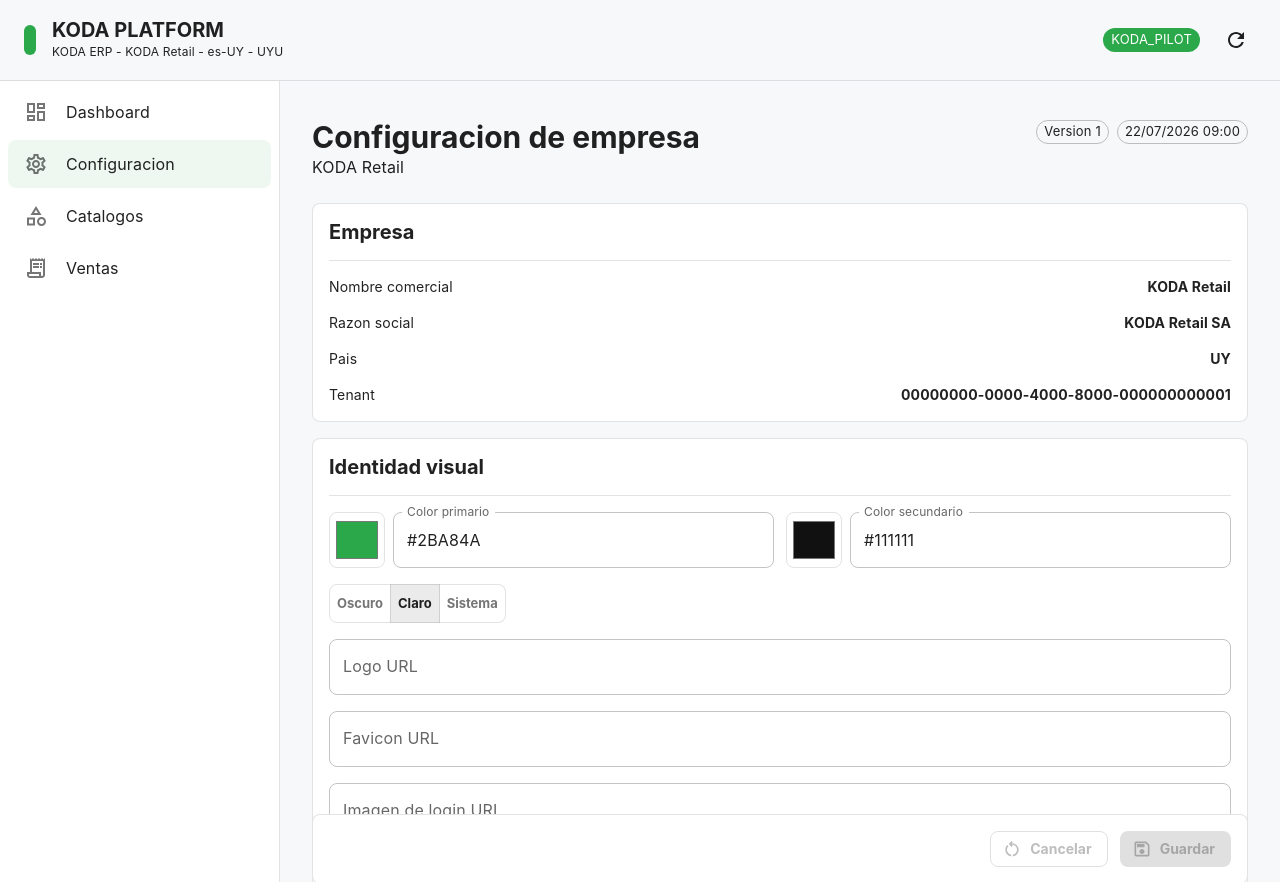
Scenario: App › allows updating company settings from the configuration module
Expected: the heading "Configuracion de empresa" is shown, [312,119,700,155]
Replace the text in the field labelled "Color primario" with "#F6862B" at (584, 540), box [393,512,774,568]
(page scrolled)
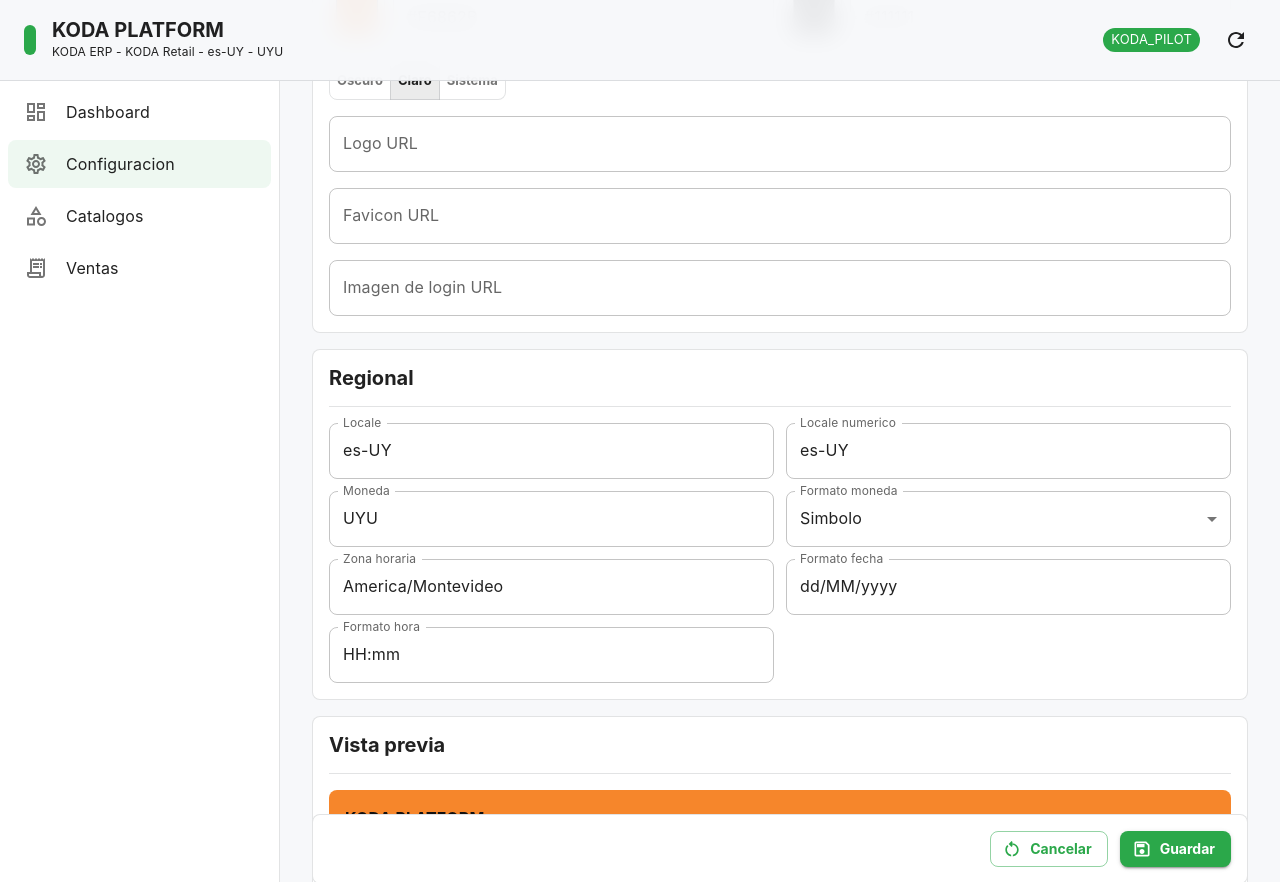
Replace the text in the field labelled "Locale" with "en-US" at (552, 451), box [329,423,774,479]
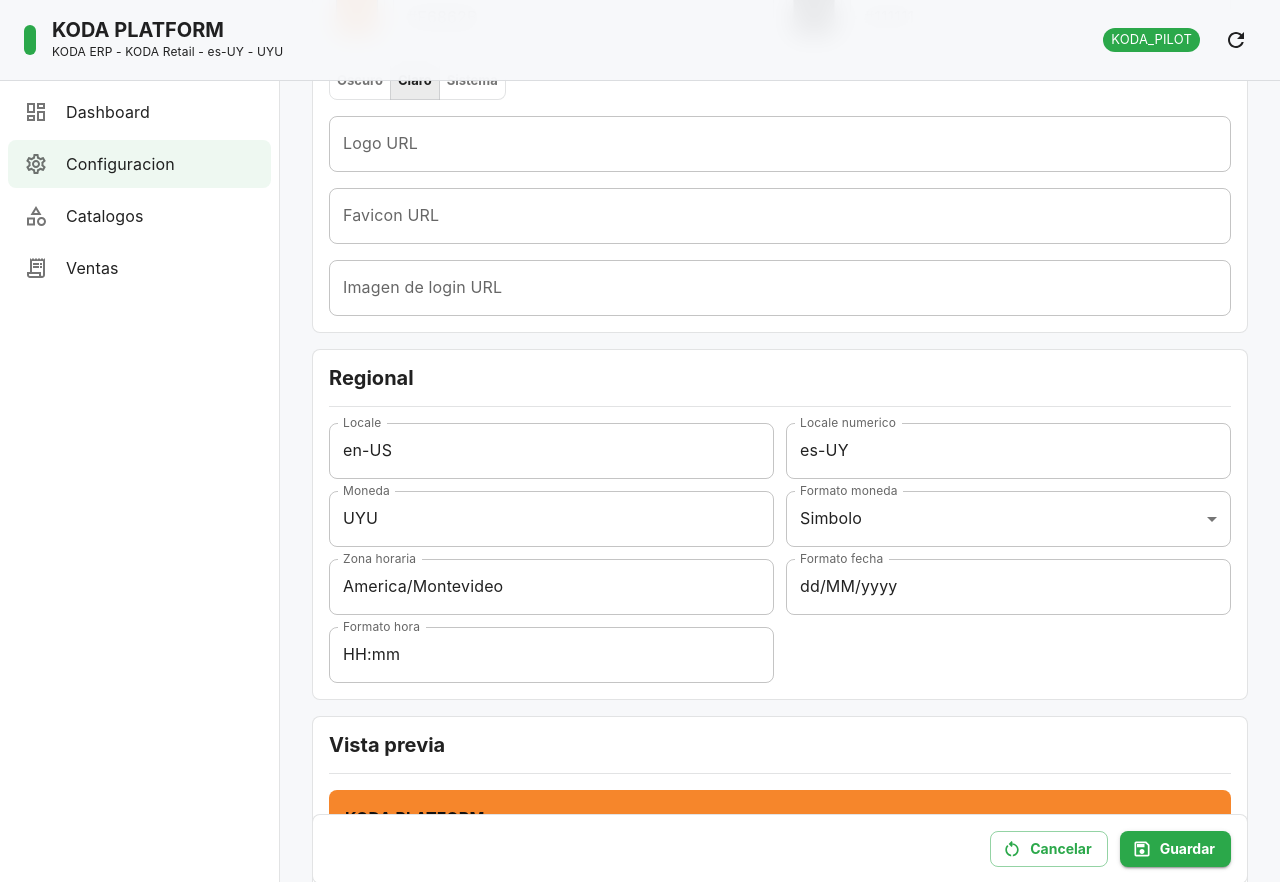
Replace the text in the field labelled "Locale numerico" with "en-US" at (1008, 451), box [786,423,1231,479]
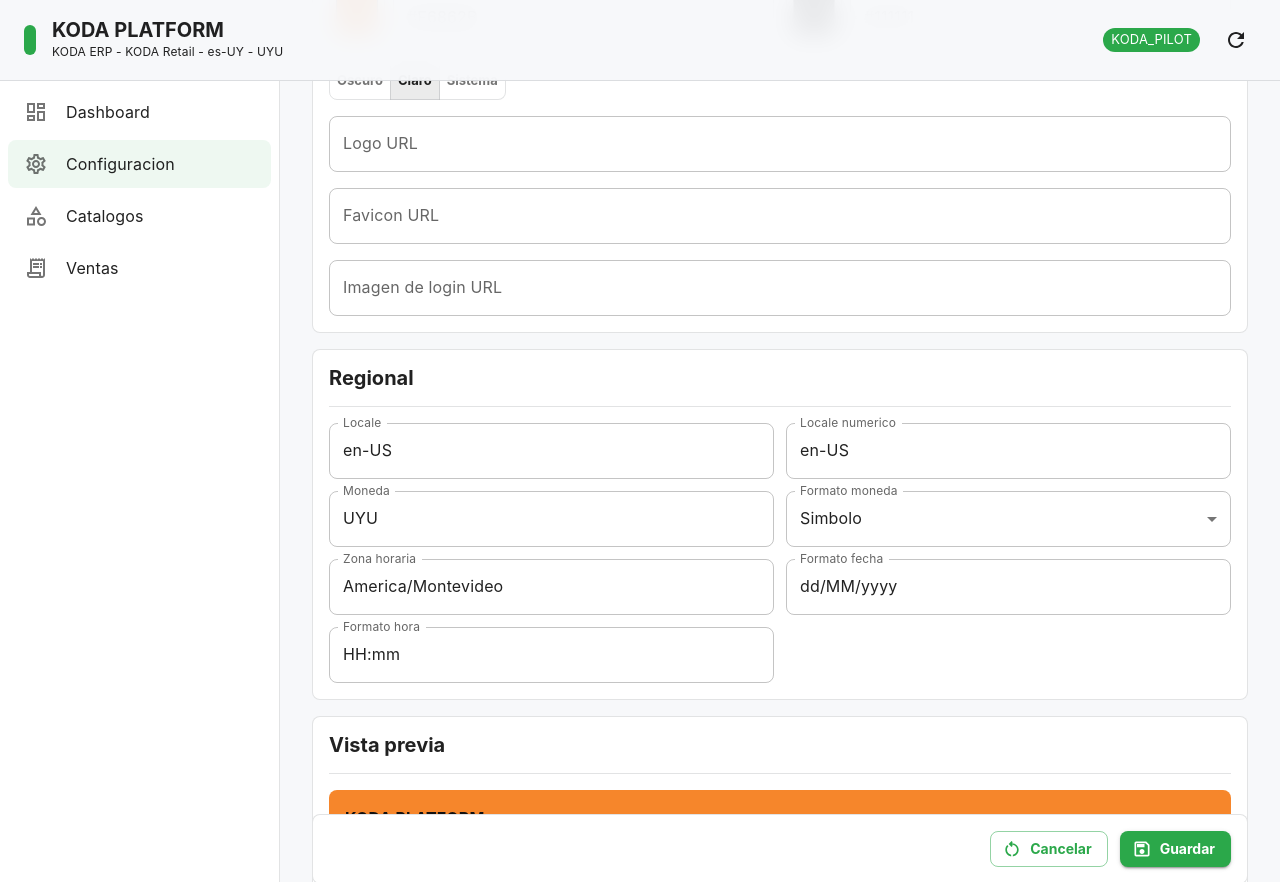
Replace the text in the field labelled "Moneda" with "USD" at (552, 519), box [329,491,774,547]
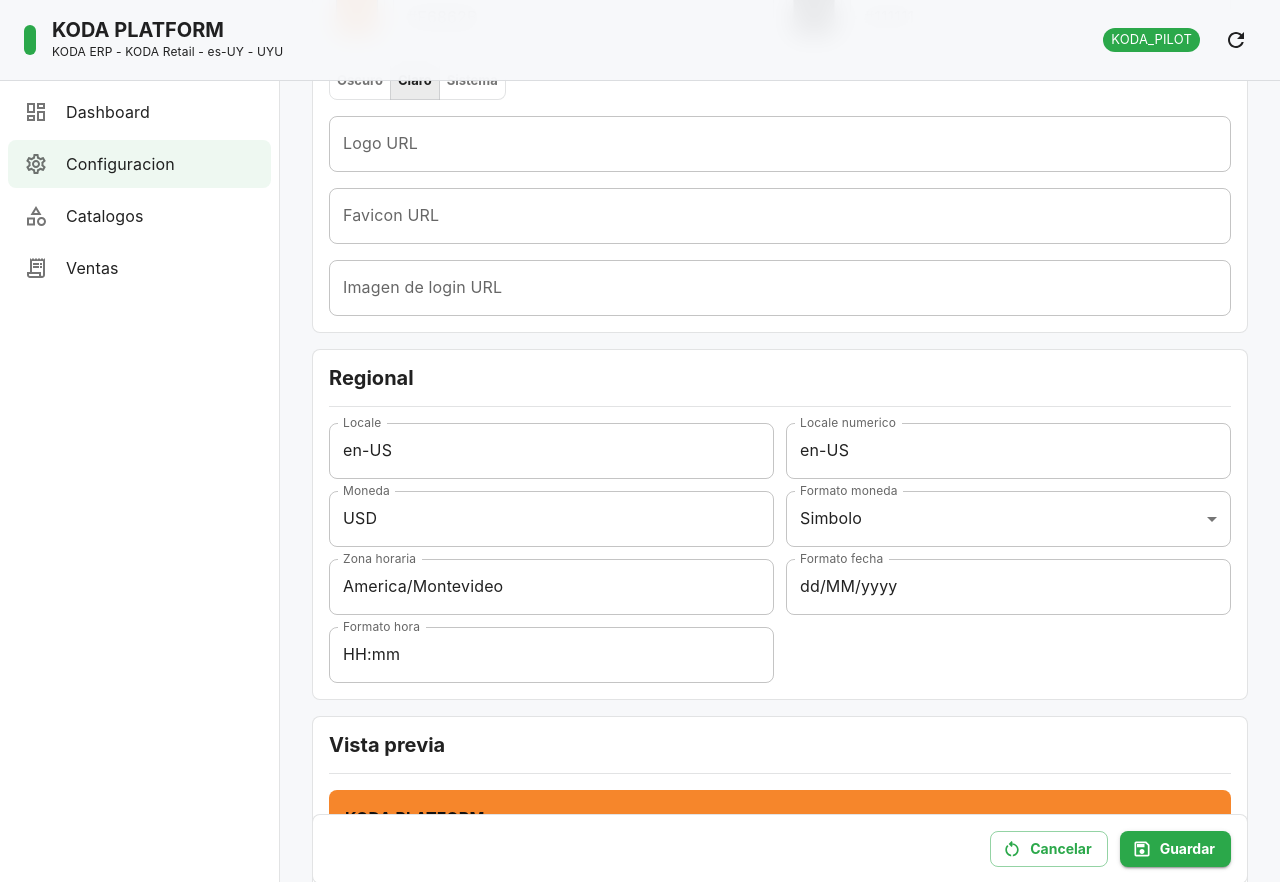
Click the button "Guardar" at (1175, 849), box [1120,830,1231,867]
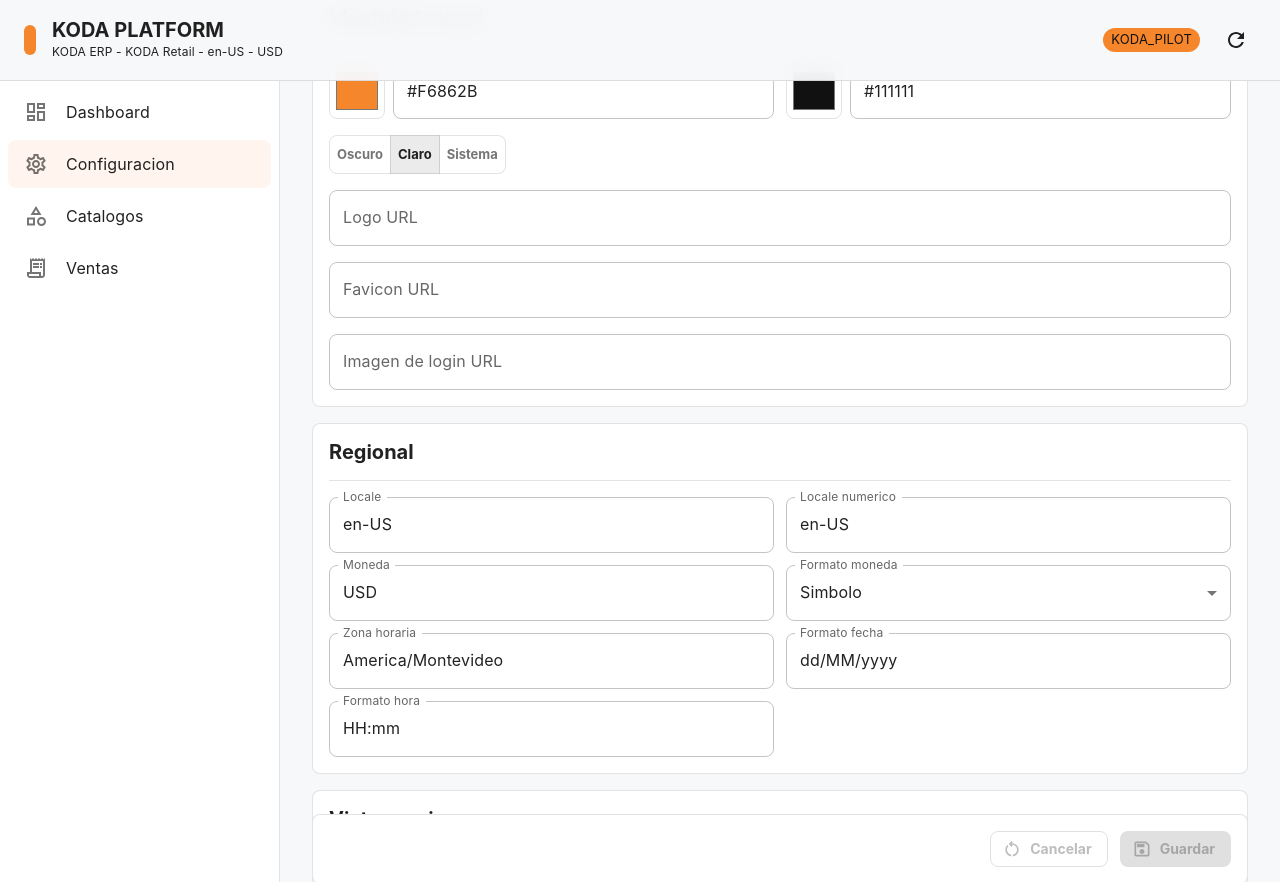
Expected: the text "KODA ERP - KODA Retail - en-US - USD" is shown, [52,44,283,59]
